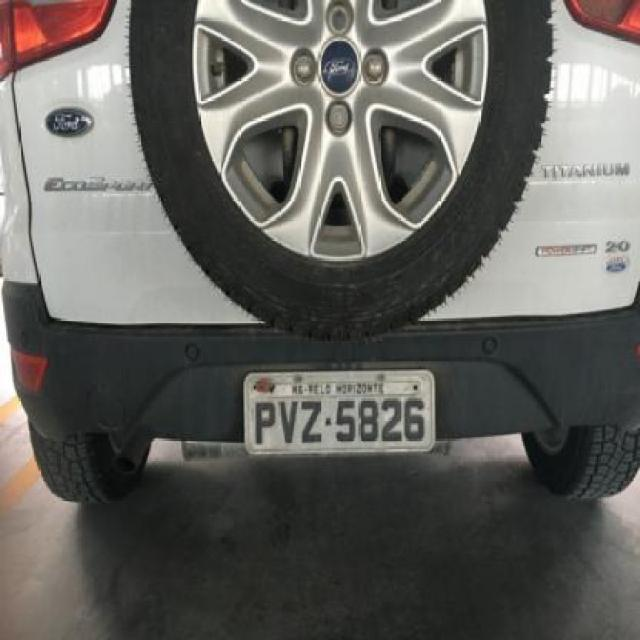old_plate: (240, 361, 438, 463)
